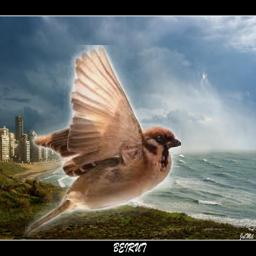Sparrow: (22, 45, 181, 237)
